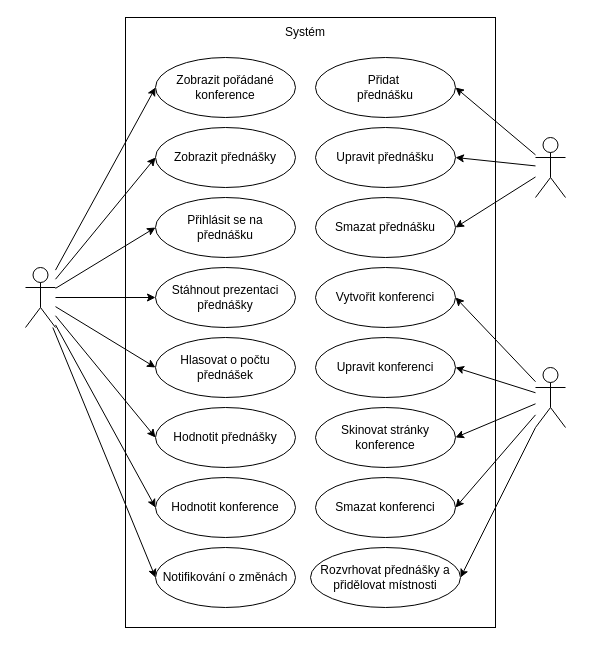
Some shapes in this 599 by 645 pixel diagram are drawn without their labels. Each missing label, with the box of its shape:
Organizátor: (534, 366, 566, 428)
Účastník: (24, 266, 56, 328)
Řečník: (534, 136, 566, 198)
